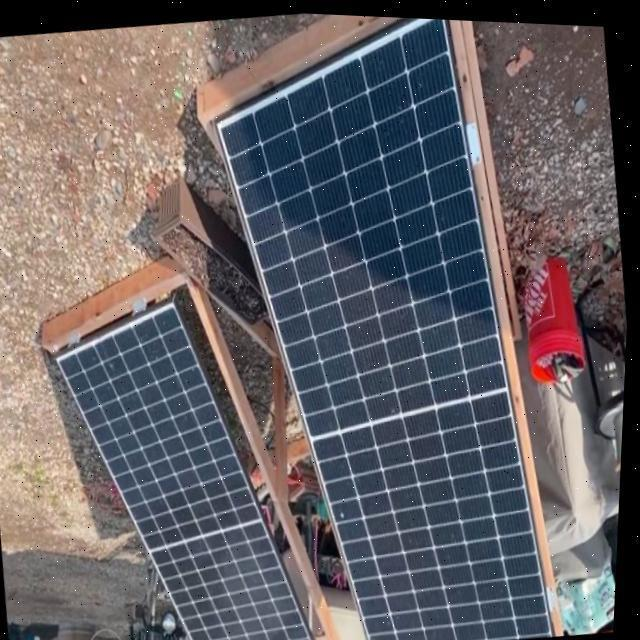Normal Solar Panel: (187, 7, 577, 640), (45, 282, 338, 640)
